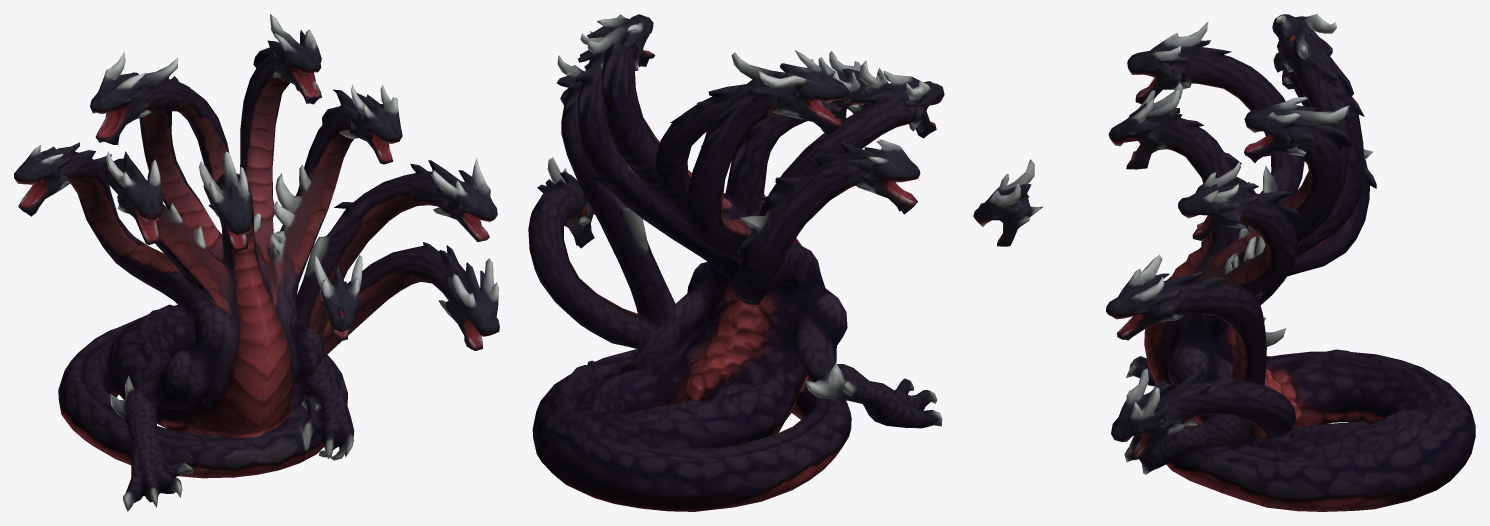
File: summon-orochi.glb
The picture shows the model from 3 angles, left to right: view 1: azimuth 30°, elevation 25°; view 2: azimuth 150°, elevation 25°; view 3: azimuth 270°, elevation 25°; orthographic projection. The views are drawn at different scales.
Parts seen in each view (by area): view 1: geometry_0; view 2: geometry_0; view 3: geometry_0.
Part boxes in pixels (bbox=[...]): geometry_0: bbox=[14, 14, 499, 511]; geometry_0: bbox=[528, 14, 944, 511]; geometry_0: bbox=[973, 14, 1475, 511].
Bounding box in the file's own units: 0.9682 × 0.8572 × 0.9753.
1 material, 1 textured.
